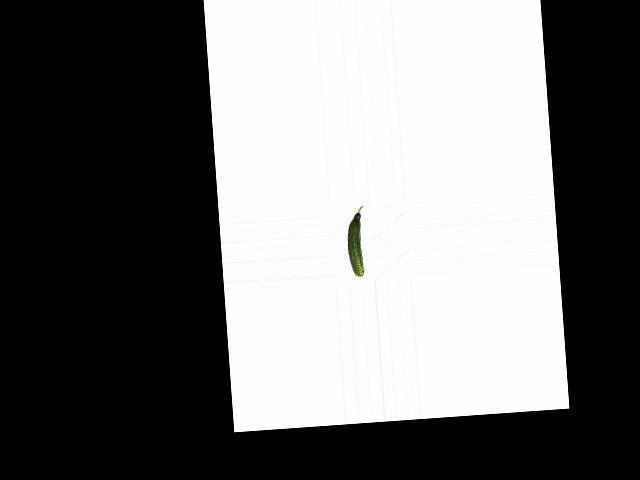cucumber: (345, 205, 368, 276)
